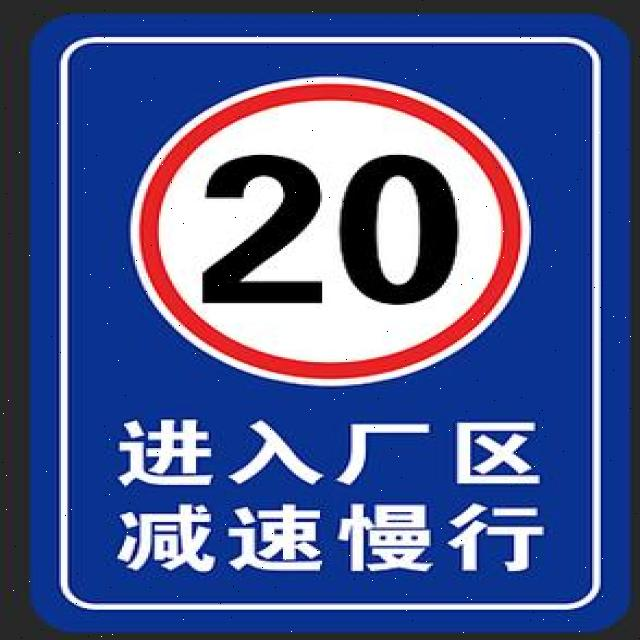speed limit 20: (131, 75, 532, 390)
